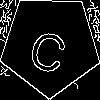C: (25, 20, 73, 76)
